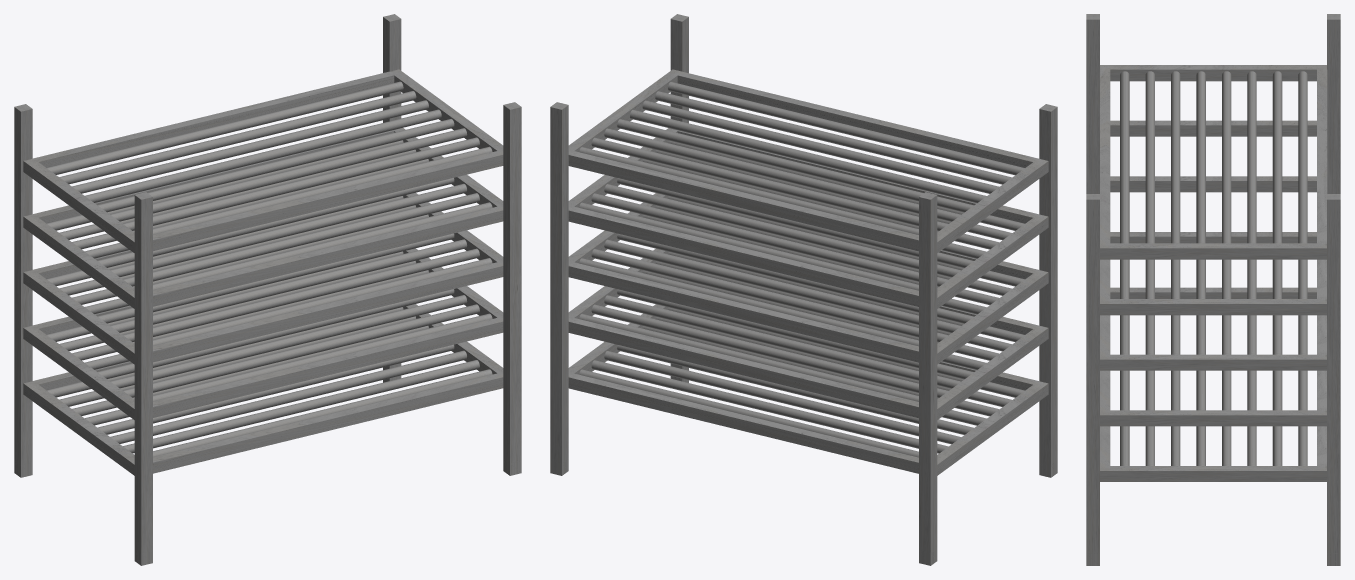
The model's file is Plant_Shelves_For_Plant_Room.fbx.
3 renders of one model, left to right at view 1: azimuth 30°, elevation 25°; view 2: azimuth 150°, elevation 25°; view 3: azimuth 270°, elevation 25°, orthographic.
Parts seen in each view (by area): view 1: Cube.001; view 2: Cube.001; view 3: Cube.001.
Part boxes in pixels (bbox=[...]): Cube.001: bbox=[14, 14, 521, 565]; Cube.001: bbox=[550, 14, 1057, 565]; Cube.001: bbox=[1086, 14, 1340, 565].
Bounding box in the file's own units: 2214 × 2036 × 1281.
Materials: 1 (1 with a texture image).
